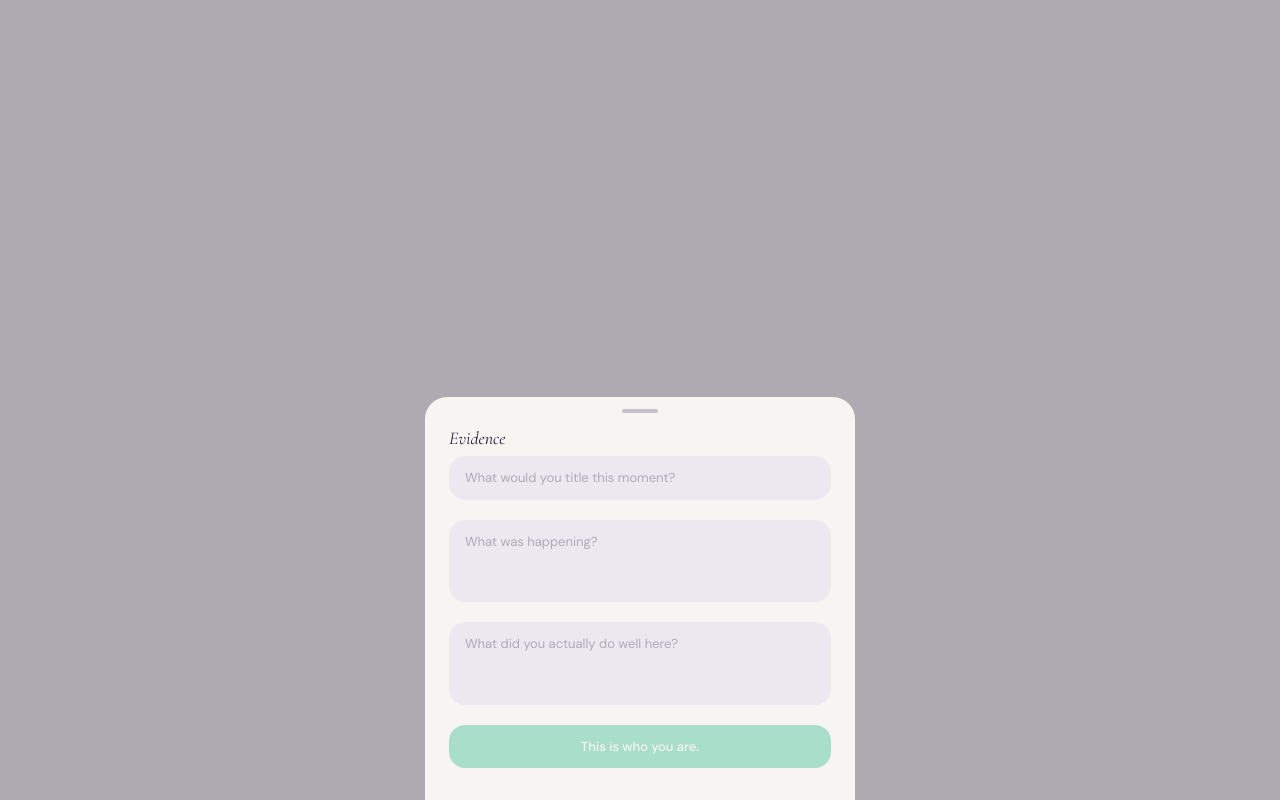
it: EvidenceEditor › submit button is enabled when all three fields have non-empty trimmed values
In the text box with placeholder "What would you title this moment?": (640, 478) [449,456,831,500], type "My title"
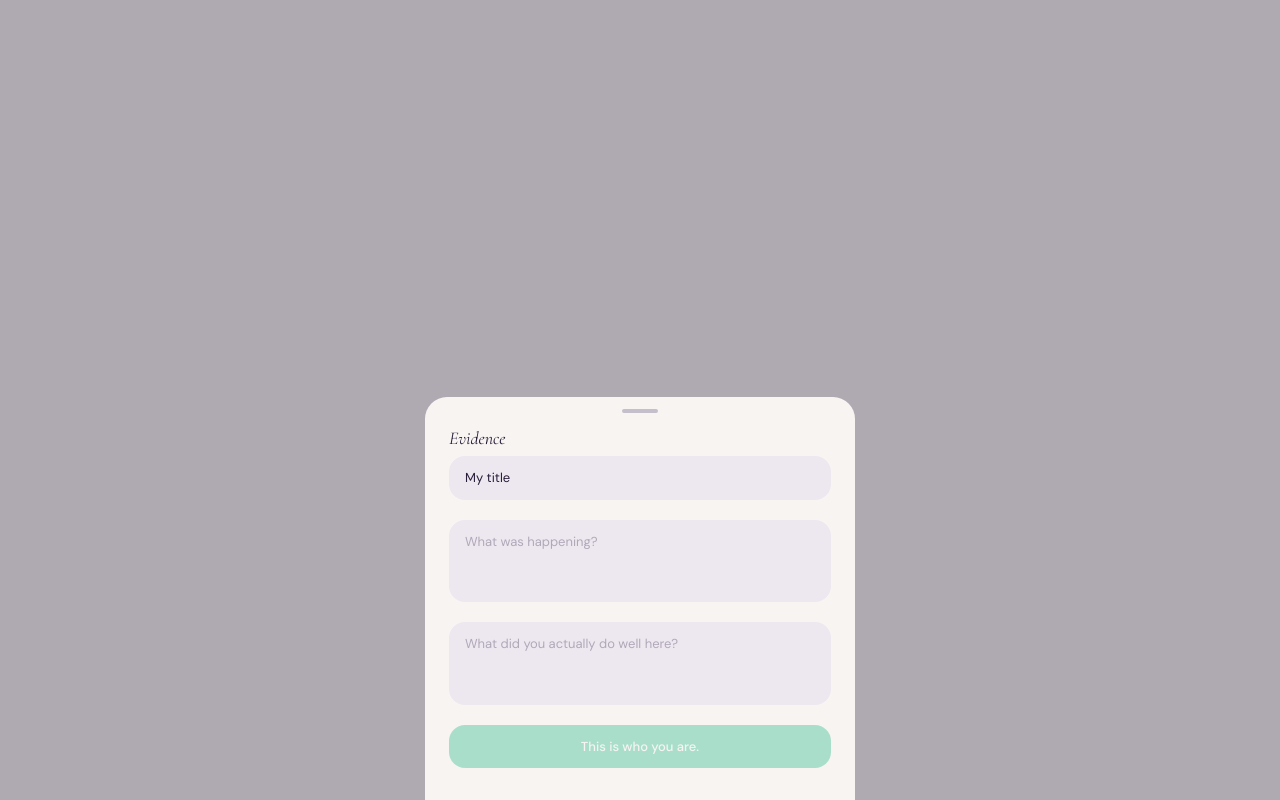
In the text box with placeholder "What was happening?": (640, 561) [449,520,831,602], type "A situation"
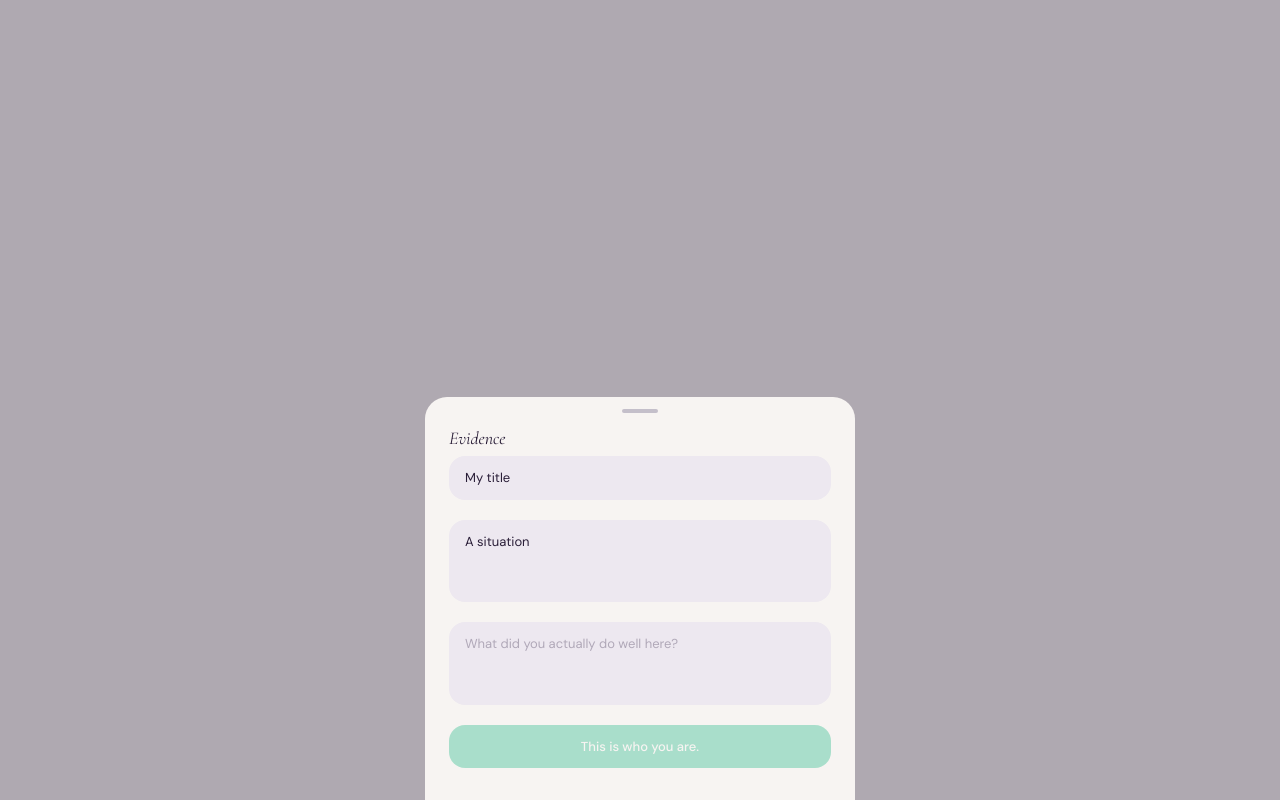
In the text box with placeholder "What did you actually do well here?": (640, 663) [449,622,831,704], type "I did this well"
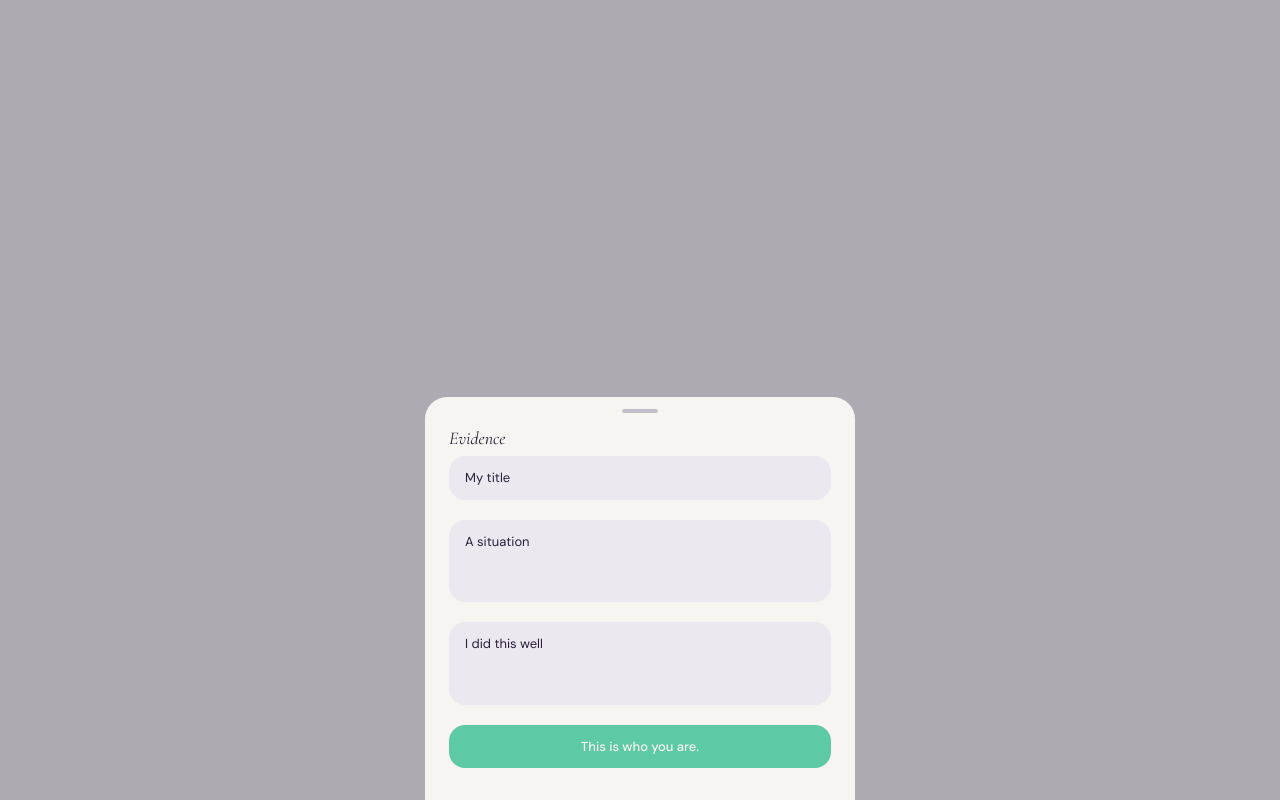
Expected: the button "This is who you are." is enabled, [449,724,831,768]
